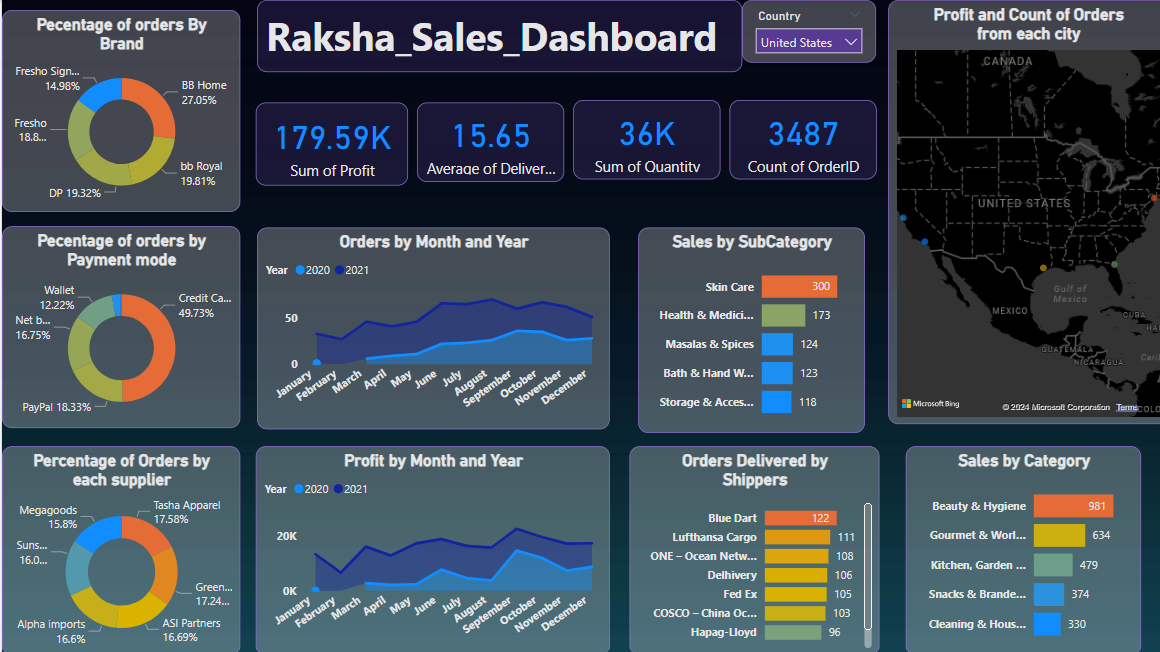

The dashboard page shown, as its layout file describes it:
{"tool":"powerbi","page":{"name":"Page 1","canvas":[1280,720],"ordinal":0},"visuals":[{"type":"clusteredBarChart","title":"Sales  by Category","fields":{"Category":["Category.CategoryName"],"Y":["CountNonNull(OrderDetails.OrderID)"]},"box":[991.4,490,258.6,230],"z":0},{"type":"clusteredBarChart","title":"Sales by SubCategory","fields":{"Y":["CountNonNull(OrderDetails.OrderID)"],"Category":["Products.Sub_Category"]},"box":[698.6,250,248.6,225.7],"z":1000},{"type":"clusteredBarChart","title":"Orders  Delivered by Shippers","fields":{"Y":["CountNonNull(OrderDetails.OrderID)"],"Category":["Shippers.CompanyName"]},"box":[688.6,490,274.3,230],"z":2000},{"type":"stackedAreaChart","title":" Orders by Month and Year","fields":{"Y":["CountNonNull(Orders.OrderID)"],"Category":["Orders.OrderDate.Variation.Date Hierarchy.Month","Orders.OrderDate.Variation.Date Hierarchy.Day"],"Series":["Orders.OrderDate.Variation.Date Hierarchy.Year"]},"box":[280,250,387.1,221.4],"z":3000},{"type":"stackedAreaChart","title":"Profit by Month and Year","fields":{"Category":["Orders.OrderDate.Variation.Date Hierarchy.Month","Orders.OrderDate.Variation.Date Hierarchy.Day"],"Series":["Orders.OrderDate.Variation.Date Hierarchy.Year"],"Y":["Sum(Products.Profit)"]},"box":[278.6,490,388.6,230],"z":4000},{"type":"map","title":"Profit and Count of Orders from each city","fields":{"Category":["Customers.City"]},"box":[972.9,0,307.1,465.7],"z":5000},{"type":"donutChart","title":"Pecentage of orders by Payment mode","fields":{"Y":["CountNonNull(OrderDetails.OrderID)"],"Category":["Payments.PaymentType"]},"box":[0,248.6,261.4,221.4],"z":6000},{"type":"donutChart","title":"Percentage of Orders  by each supplier ","fields":{"Y":["CountNonNull(OrderDetails.OrderID)"],"Category":["Suppliers.CompanyName"]},"box":[0,490,261.4,230],"z":7000},{"type":"slicer","fields":{"Values":["Customers.Country"]},"box":[812.9,0,147.1,68.6],"z":8000},{"type":"card","fields":{"Values":["CountNonNull(OrderDetails.OrderID)"]},"box":[798.6,110,161.4,87.1],"z":9000},{"type":"card","fields":{"Values":["Sum(OrderDetails.Quantity)"]},"box":[627.1,110,161.4,87.1],"z":10000},{"type":"card","fields":{"Values":["Avg(Orders.Delivery_Days)"]},"box":[455.7,112.9,161.4,87.1],"z":11000},{"type":"card","fields":{"Values":["Sum(Products.Profit)"]},"box":[278.6,112.9,167.1,91.4],"z":12000},{"type":"textbox","box":[279.9,0,532.4,79.6],"z":13000},{"type":"donutChart","title":"Pecentage of orders By Brand","fields":{"Y":["CountNonNull(OrderDetails.OrderID)"],"Category":["Products.Brand"]},"box":[0,11.4,261.4,221.4],"z":14000}]}

Visuals, with their boxes in screenshot pixels (x1, y1, x2, y2), scaled from the page's 1280x720 canvas onto the 1160x652 screenshot:
"Sales  by Category" clusteredBarChart: 898:444:1133:651
"Sales by SubCategory" clusteredBarChart: 633:226:858:431
"Orders  Delivered by Shippers" clusteredBarChart: 624:444:873:651
" Orders by Month and Year" stackedAreaChart: 254:226:605:427
"Profit by Month and Year" stackedAreaChart: 252:444:605:651
"Profit and Count of Orders from each city" map: 882:0:1159:422
"Pecentage of orders by Payment mode" donutChart: 0:225:237:426
"Percentage of Orders  by each supplier " donutChart: 0:444:237:651
slicer - Customers.Country: 737:0:870:62
card - CountNonNull(OrderDetails.OrderID): 724:100:870:178
card - Sum(OrderDetails.Quantity): 568:100:715:178
card - Avg(Orders.Delivery_Days): 413:102:559:181
card - Sum(Products.Profit): 252:102:404:185
textbox: 254:0:736:72
"Pecentage of orders By Brand" donutChart: 0:10:237:211
